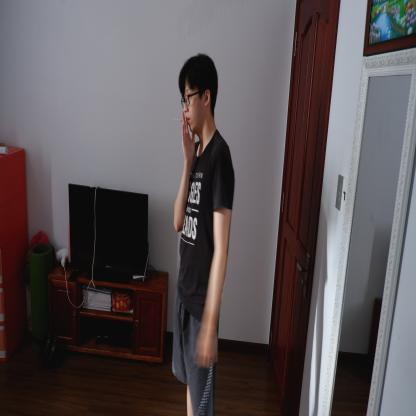cigarette: (173, 118, 183, 122)
person: (171, 51, 237, 415)
